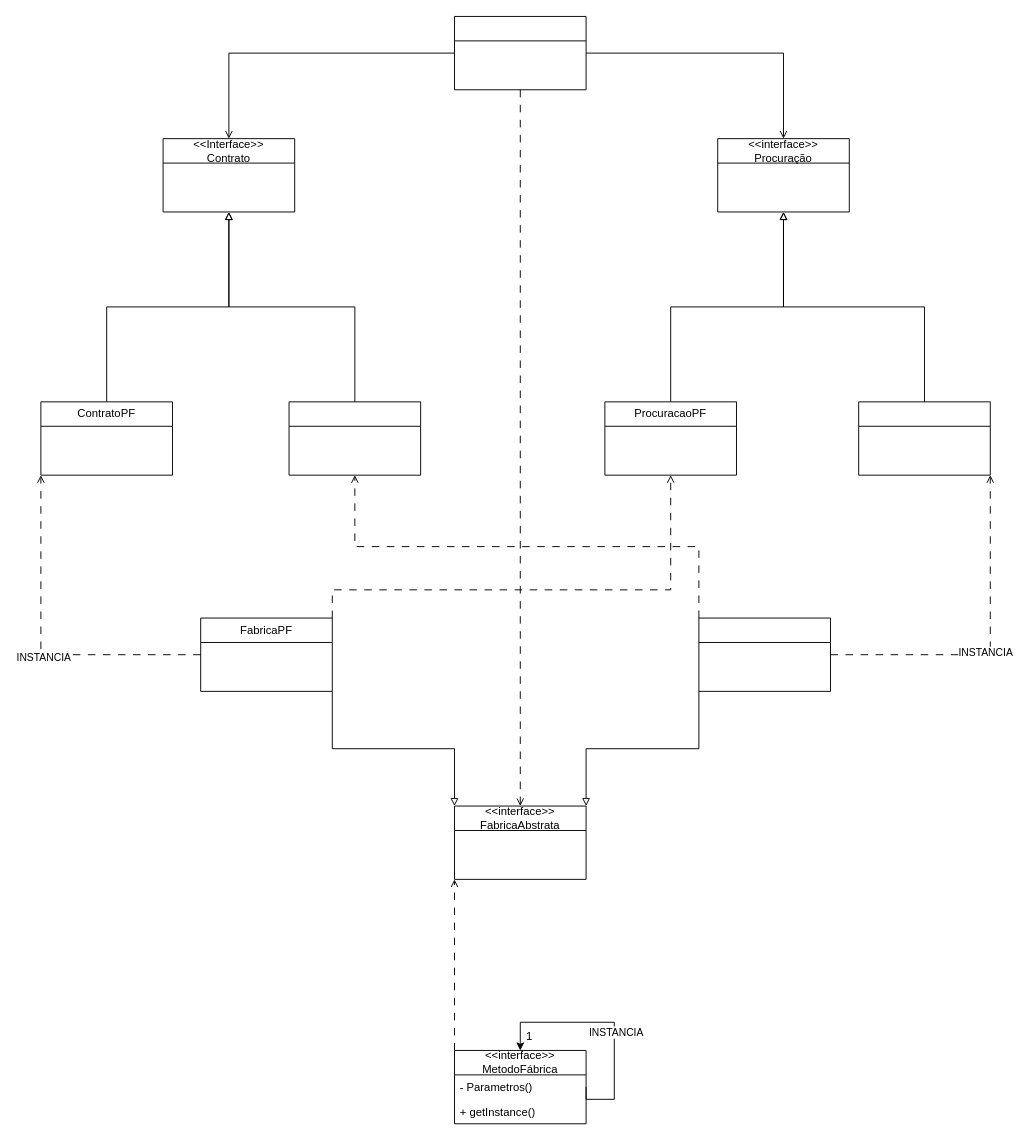
This 1028x1143 diagram has some shape labels left out. The shapes that lost their labels are listed below. From the top down, each one's centre as x and y in pixels, then its label:
[520,53]: Cliente
[354,438]: ContratoPJ
[924,438]: ProcuracaoPJ
[764,654]: FabricaPJ
